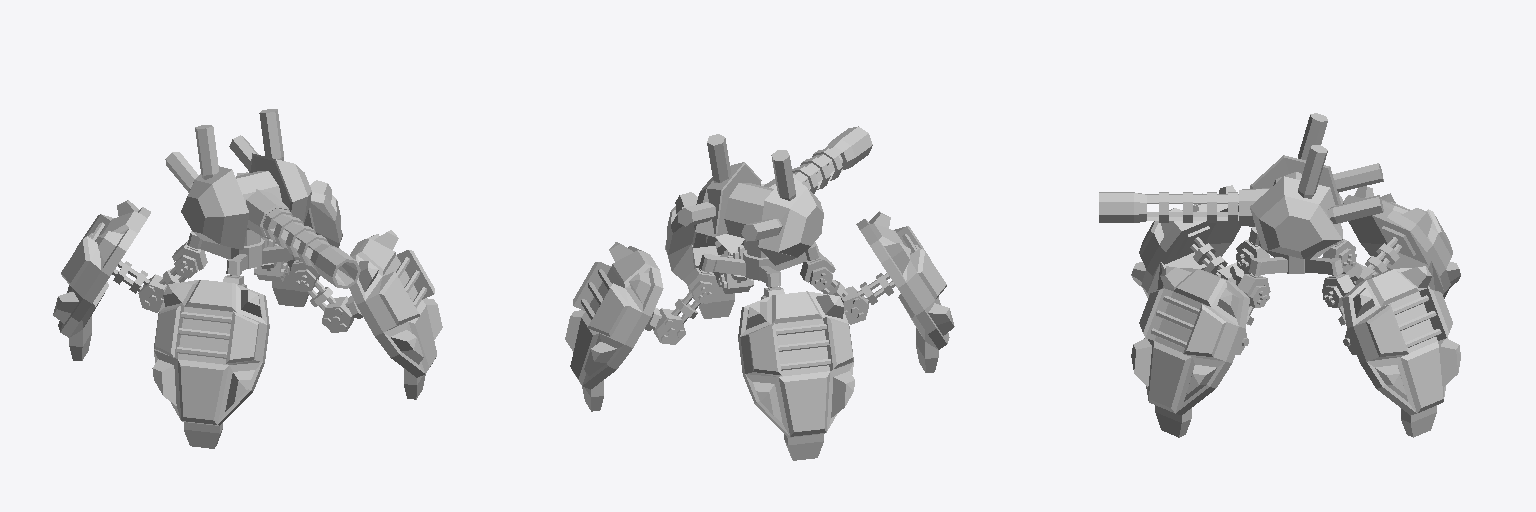
Rendered from mobile_turret.obj.
3 renders of one model, left to right at view 1: azimuth 30°, elevation 25°; view 2: azimuth 150°, elevation 25°; view 3: azimuth 270°, elevation 25°, orthographic.
Parts seen in each view (by area): view 1: Gun; view 2: Gun; view 3: Gun.
Part boxes in pixels (x1,y1,x2,y2): Gun: (53,109,442,448); Gun: (565,126,954,460); Gun: (1099,113,1460,437).
Size of the model in its own units: 6.83 by 5.73 by 7.53.